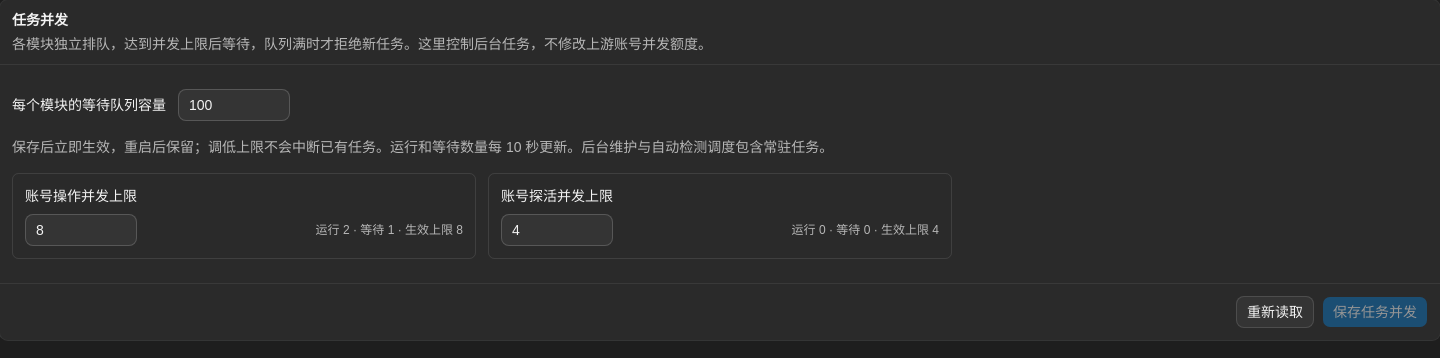
读取设置后显示各模块现值和运行状态，编辑后保存完整并发配置
Expected: the text "运行 2 · 等待 1 · 生效上限 8" is shown, [316, 222, 463, 238]
Expected: the button "保存任务并发" is disabled, [1322, 296, 1428, 328]
Replace the text in the number field labelled "账号操作并发上限" with "12". click: (81, 230)
box: [25, 214, 137, 246]
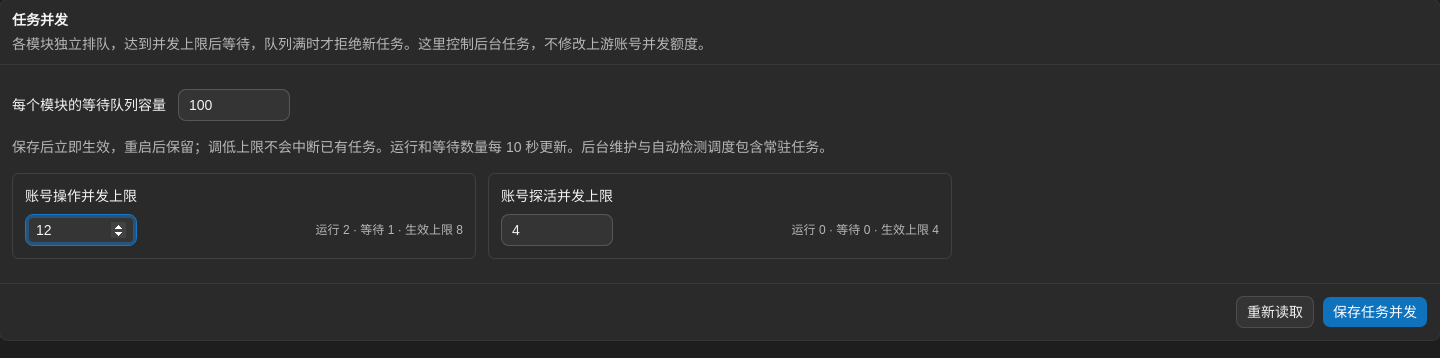
Click the button "保存任务并发". click: (1375, 312)
box: [1322, 296, 1428, 328]
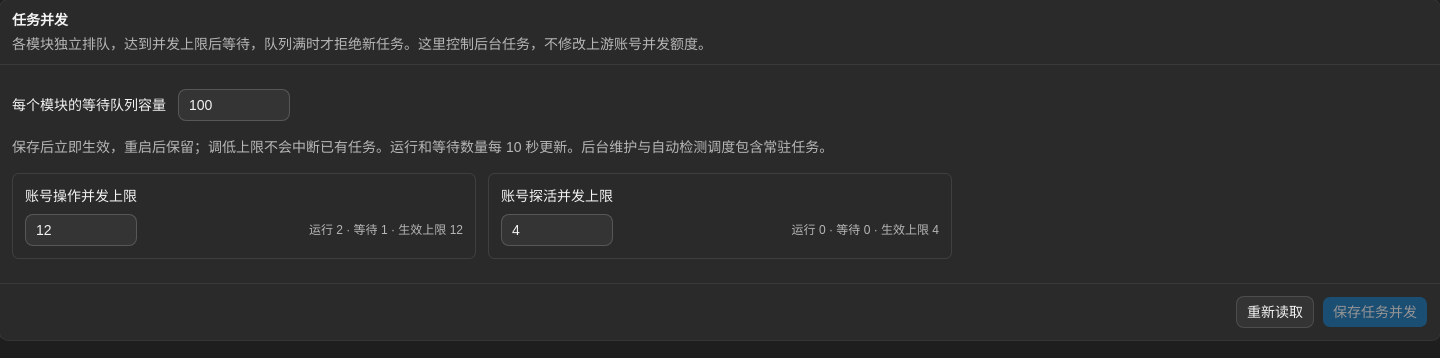
Expected: the button "保存任务并发" is disabled, [1322, 296, 1428, 328]
